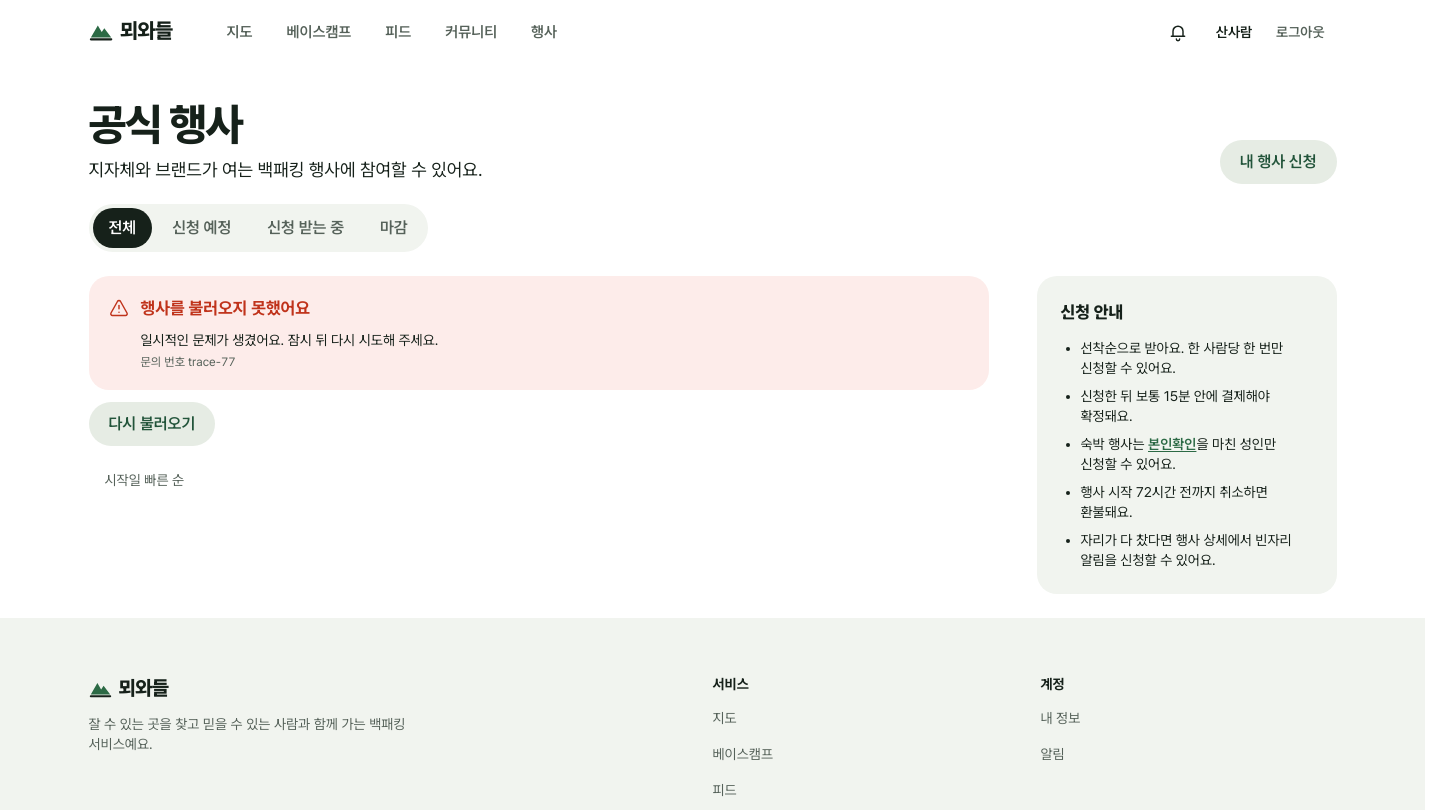
Scenario: 공식 행사 목록 화면 › 불러오지 못하면 오류 문구와 다시 불러오기 버튼이 나오고, 누르면 목록이 나온다
What coordinates should you click on to do the following:
click the button "다시 불러오기"
I would click on:
 (152, 424)
Its box is x1=88 y1=402 x2=215 y2=446.
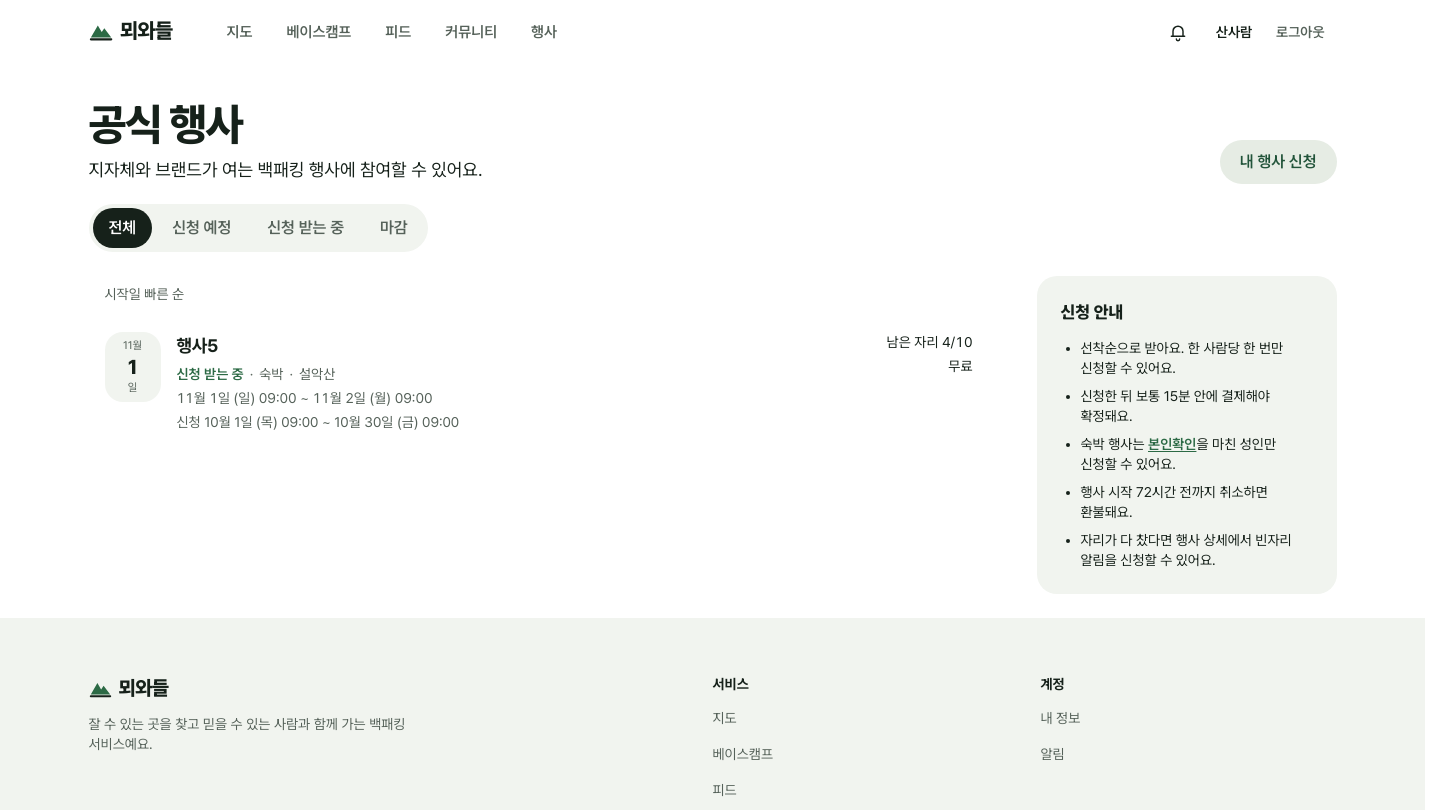
expect the text "행사5" is shown: met, box x1=176 y1=335 x2=218 y2=356
expect the text "행사를 불러오지 못했어요" is gone: met
